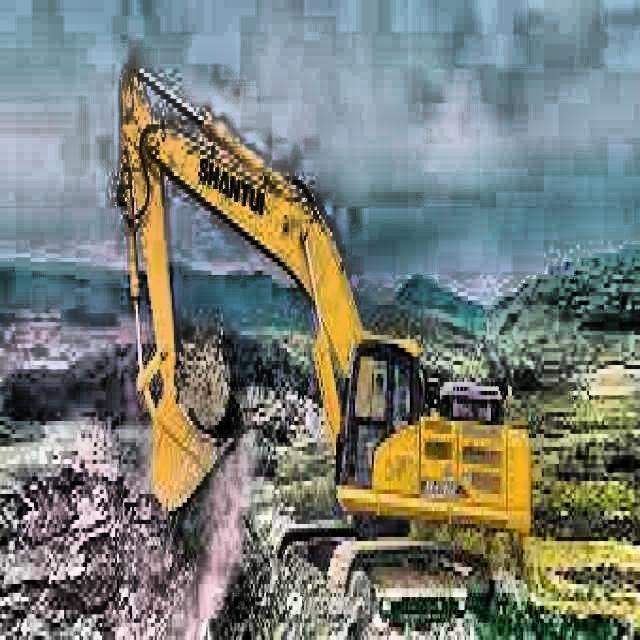bull_dozer/loader/grader: (115, 59, 536, 640)
person: (368, 370, 391, 438)
